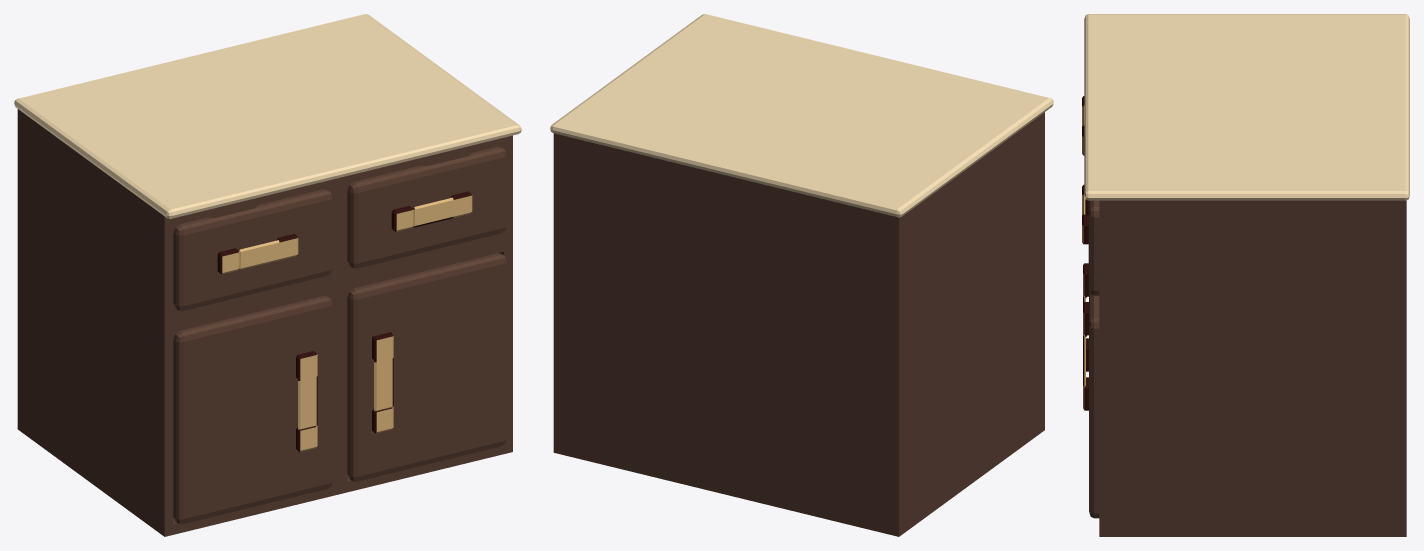
File: kitchencounter.fbx
3 views of the same model, side by side, from view 1: azimuth 30°, elevation 25°; view 2: azimuth 150°, elevation 25°; view 3: azimuth 270°, elevation 25° (orthographic). The views are drawn at different scales.
Parts seen in each view (by area): view 1: Cube.002, Cube, Plane, Cube.001; view 2: Cube, Plane; view 3: Cube, Plane, Cube.002, Cube.001.
Boxes of the visible parts, x1,y1,x2,y2 form: Cube.002: (173, 146, 506, 524); Cube: (17, 109, 512, 536); Plane: (14, 14, 521, 218); Cube.001: (217, 191, 472, 452); Cube: (553, 112, 1044, 536); Plane: (550, 14, 1053, 217); Cube: (1099, 200, 1406, 536); Plane: (1084, 14, 1409, 200); Cube.002: (1088, 200, 1099, 518); Cube.001: (1082, 96, 1088, 410).
Size of the model in its own units: 334 by 297 by 256.
